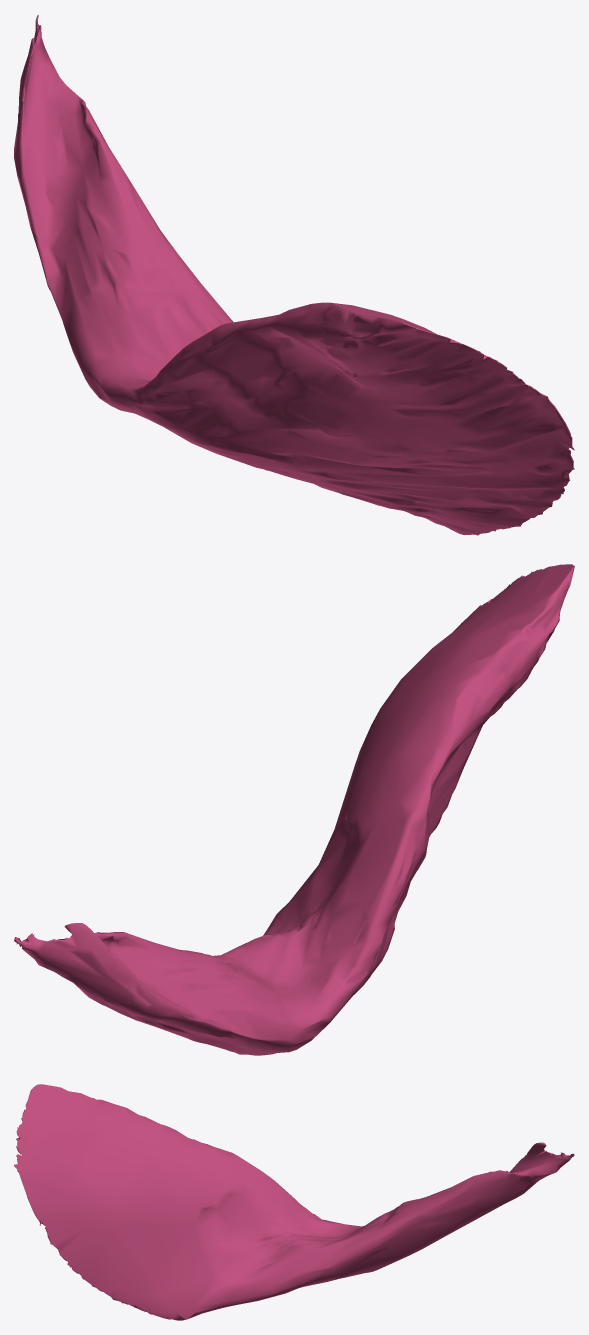
The picture shows the model from 3 angles, top to bottom: view 1: azimuth 30°, elevation 25°; view 2: azimuth 150°, elevation 25°; view 3: azimuth 270°, elevation 25°; orthographic projection. The views are drawn at different scales.
Parts seen in each view (by area): view 1: 左侧髂肌; view 2: 左侧髂肌; view 3: 左侧髂肌.
Boxes of the visible parts, left/top/right/bottom form: 左侧髂肌: left=14, top=15, right=574, bottom=535; 左侧髂肌: left=14, top=564, right=574, bottom=1055; 左侧髂肌: left=14, top=1084, right=574, bottom=1320.
Size of the model in its own units: 0.0827 by 0.1271 by 0.3412.
